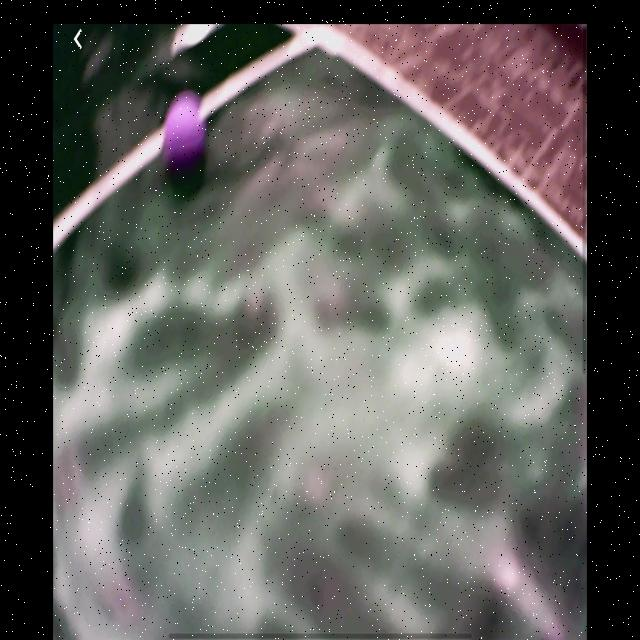ball: (163, 89, 209, 177)
